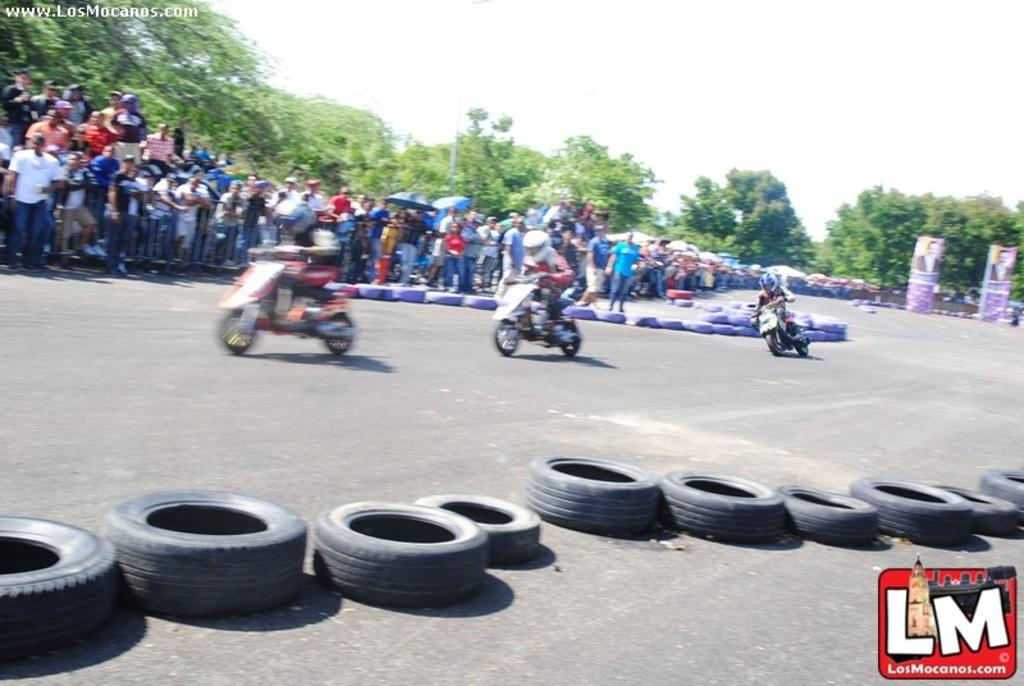helmet: (275, 198, 316, 240), (522, 230, 552, 262), (758, 272, 778, 296)
